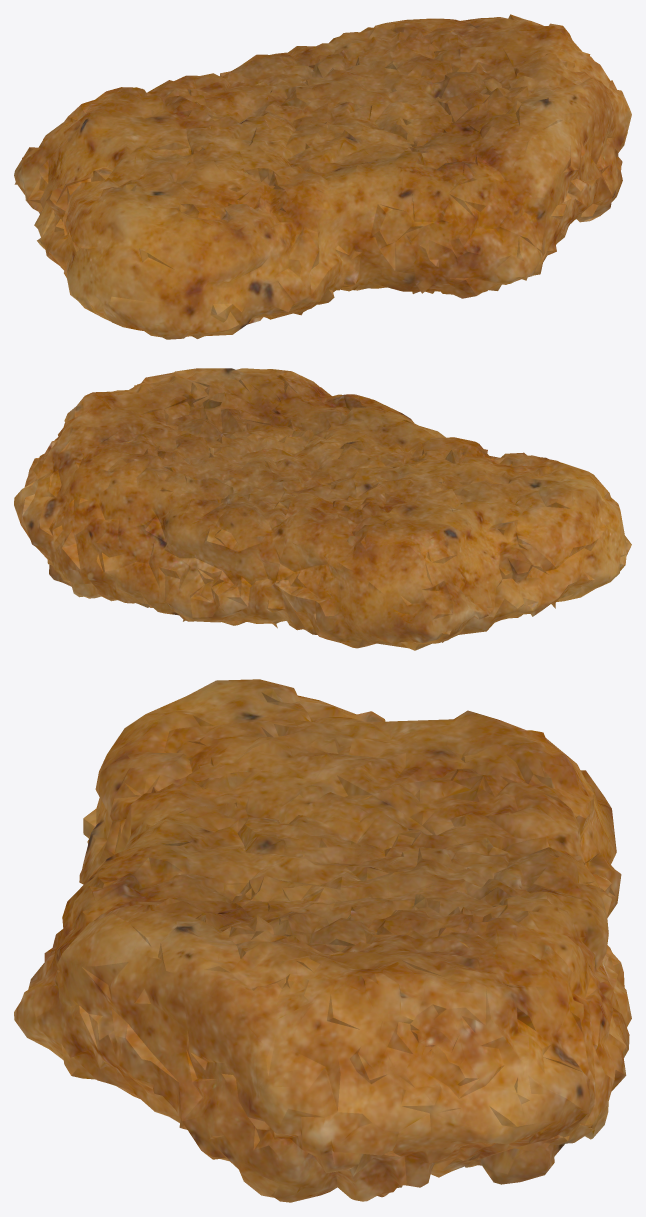
File: nugget.glb
3 renders of one model, top to bottom at view 1: azimuth 30°, elevation 25°; view 2: azimuth 150°, elevation 25°; view 3: azimuth 270°, elevation 25°, orthographic. The views are drawn at different scales.
Visible parts, largest first — view 1: Object_2; view 2: Object_2; view 3: Object_2.
Part boxes in pixels (bbox=[...]): Object_2: bbox=[14, 14, 631, 339]; Object_2: bbox=[14, 368, 631, 650]; Object_2: bbox=[14, 679, 631, 1202].
Size of the model in its own units: 55.17 by 15.4 by 37.31.
1 material, 1 textured.
